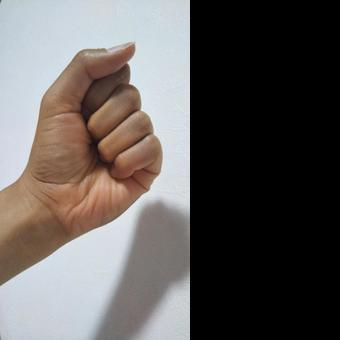gu-: (34, 41, 162, 214)
